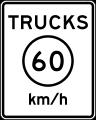Speed Limit -60-: (31, 45, 67, 74)
